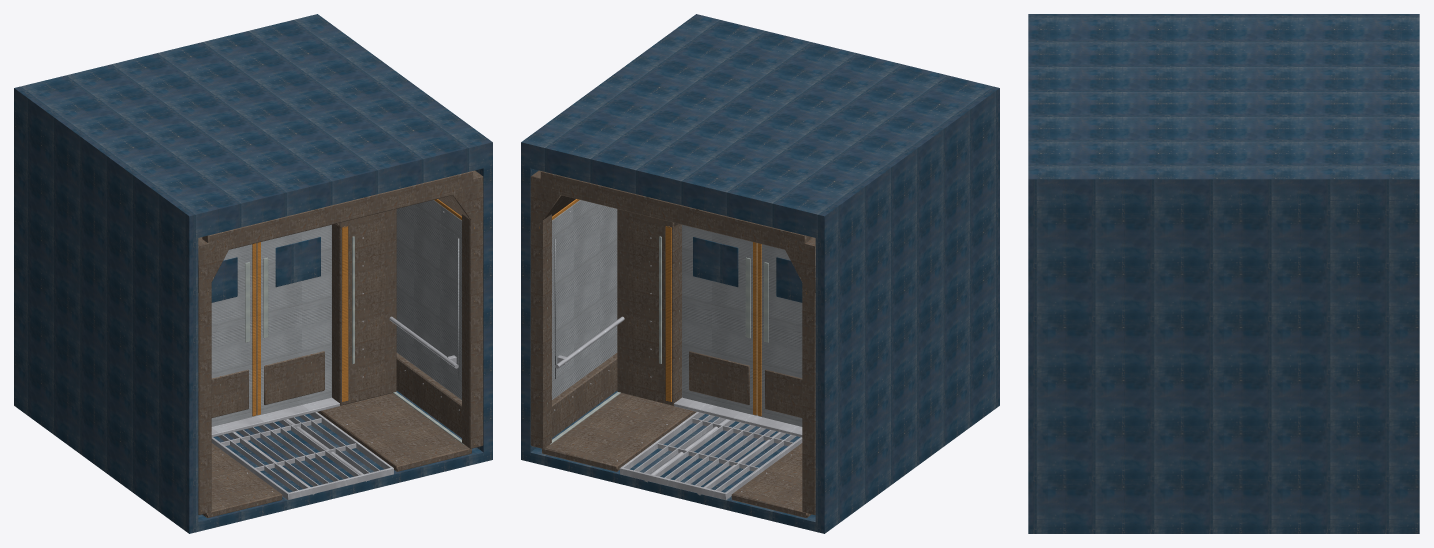
File: Door_Slide_Closed.fbx
3 renders of one model, left to right at view 1: azimuth 30°, elevation 25°; view 2: azimuth 150°, elevation 25°; view 3: azimuth 270°, elevation 25°, orthographic. The views are drawn at different scales.
Visible parts, largest first — view 1: Door_Slide_Closed.001; view 2: Door_Slide_Closed.001; view 3: Door_Slide_Closed.001.
Part boxes in pixels (x1,y1,x2,y2): Door_Slide_Closed.001: (14,14,492,533); Door_Slide_Closed.001: (521,14,999,533); Door_Slide_Closed.001: (1028,14,1419,533).
Size of the model in its own units: 4 by 4 by 4.
6 materials, 6 textured.
